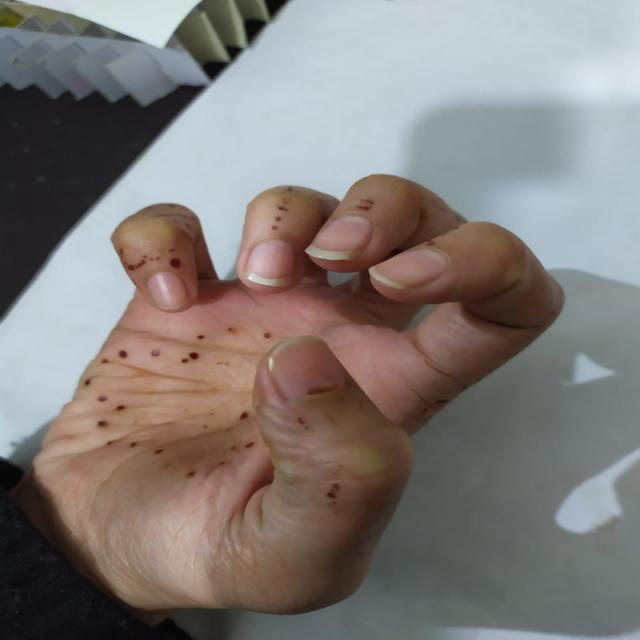Nail: (269, 334, 349, 402), (370, 247, 449, 290), (305, 215, 374, 261), (246, 240, 297, 287), (148, 272, 192, 312)
